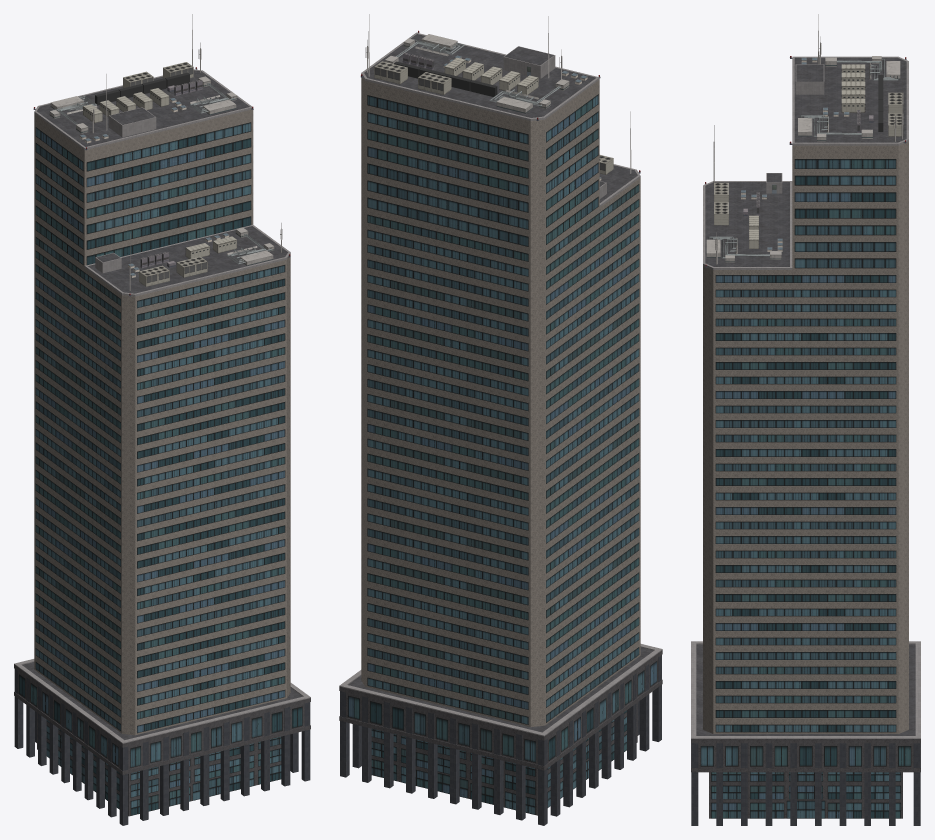
The model's file is building_Da.FBX.
3 views of the same model, side by side, from view 1: azimuth 30°, elevation 25°; view 2: azimuth 150°, elevation 25°; view 3: azimuth 270°, elevation 25° (orthographic). The views are drawn at different scales.
Parts seen in each view (by area): view 1: building_Da; view 2: building_Da; view 3: building_Da.
Part boxes in pixels (box(x1,y1,x2,y2)): building_Da: box(14, 14, 310, 825); building_Da: box(339, 14, 662, 825); building_Da: box(691, 14, 920, 825).
Size of what is drawn, in the model's own units: 1979 by 1979 by 7012.
